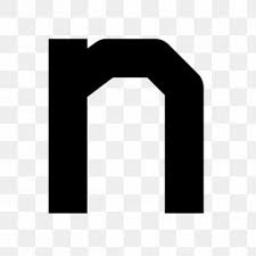n: (39, 26, 215, 226)
